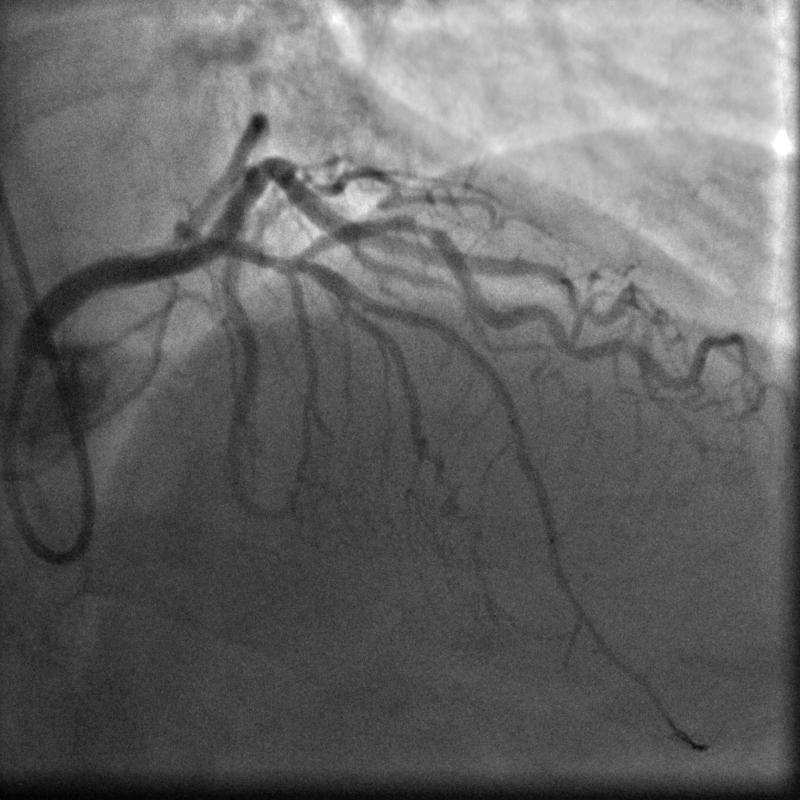Stenosis: (405, 209, 447, 245)
